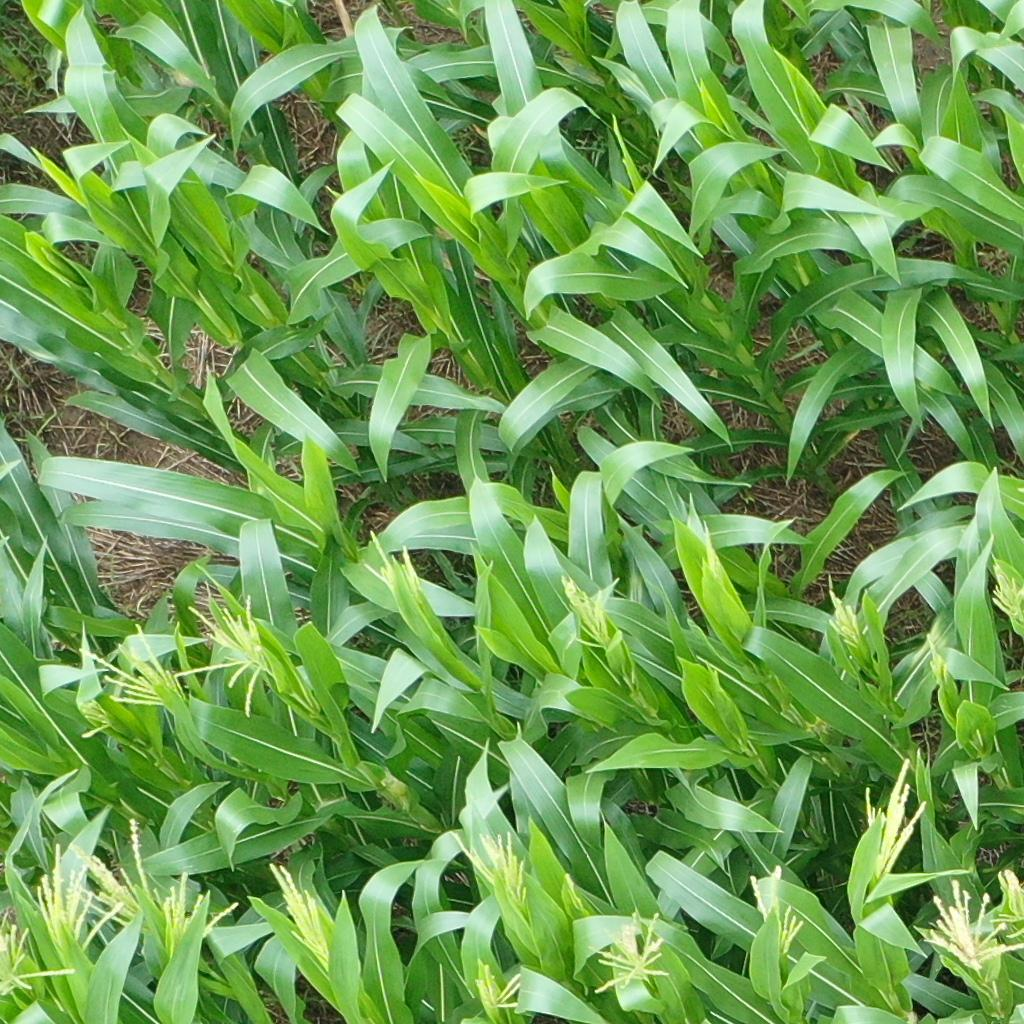Tassel: (55, 595, 281, 742), (36, 815, 239, 948), (923, 867, 1023, 968), (859, 752, 923, 898), (267, 856, 337, 969), (580, 909, 674, 992), (446, 825, 533, 912), (1, 919, 76, 1009), (552, 572, 624, 659), (747, 867, 809, 960), (365, 527, 428, 608), (821, 583, 869, 653), (471, 954, 525, 1016), (983, 548, 1024, 627), (920, 630, 958, 686), (696, 517, 727, 585)
